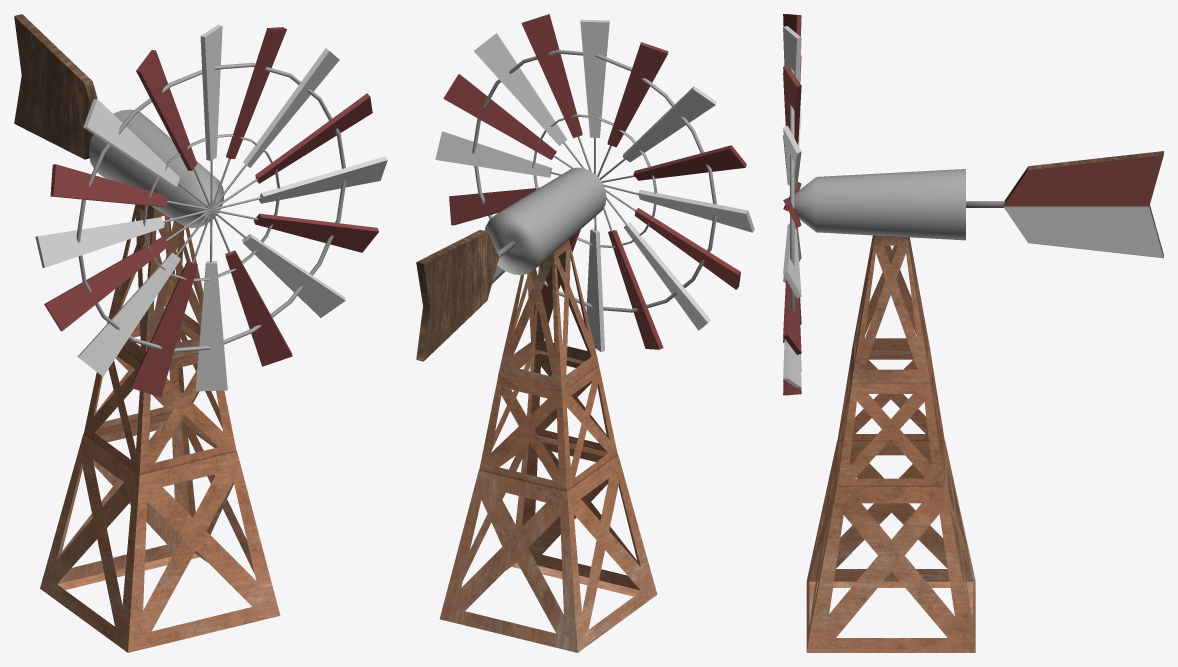
File: KungHun.fbx
3 views of the same model, side by side, from view 1: azimuth 30°, elevation 25°; view 2: azimuth 150°, elevation 25°; view 3: azimuth 270°, elevation 25° (orthographic). The views are drawn at different scales.
Visible parts, largest first — view 1: KungHun; view 2: KungHun; view 3: KungHun.
Part boxes in pixels (x1,y1,x2,y2): KungHun: (14,14,387,652); KungHun: (416,14,754,652); KungHun: (783,14,1163,652).
Bounding box in the file's own units: 11.34 × 19.23 × 11.35.
